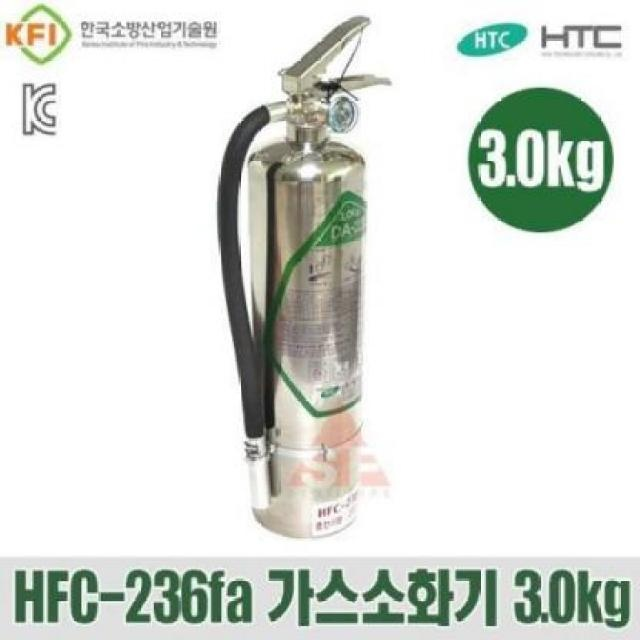fire extinguisher: (217, 15, 391, 540)
